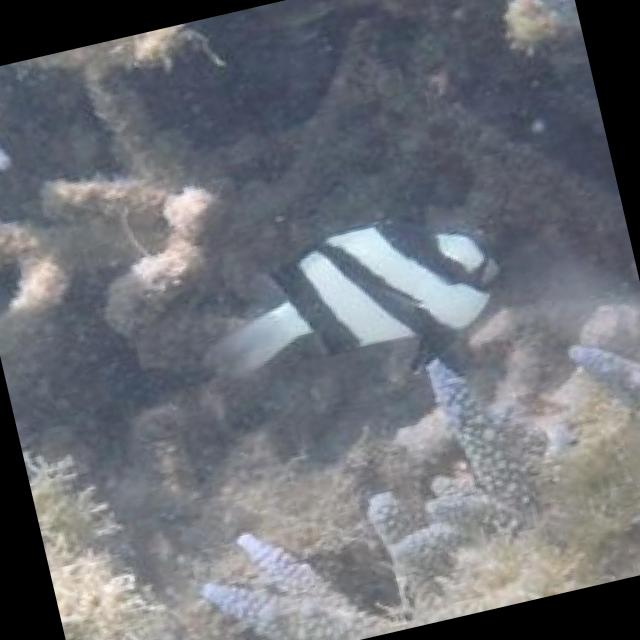Three_striped DasmselFish: (174, 195, 521, 436)
